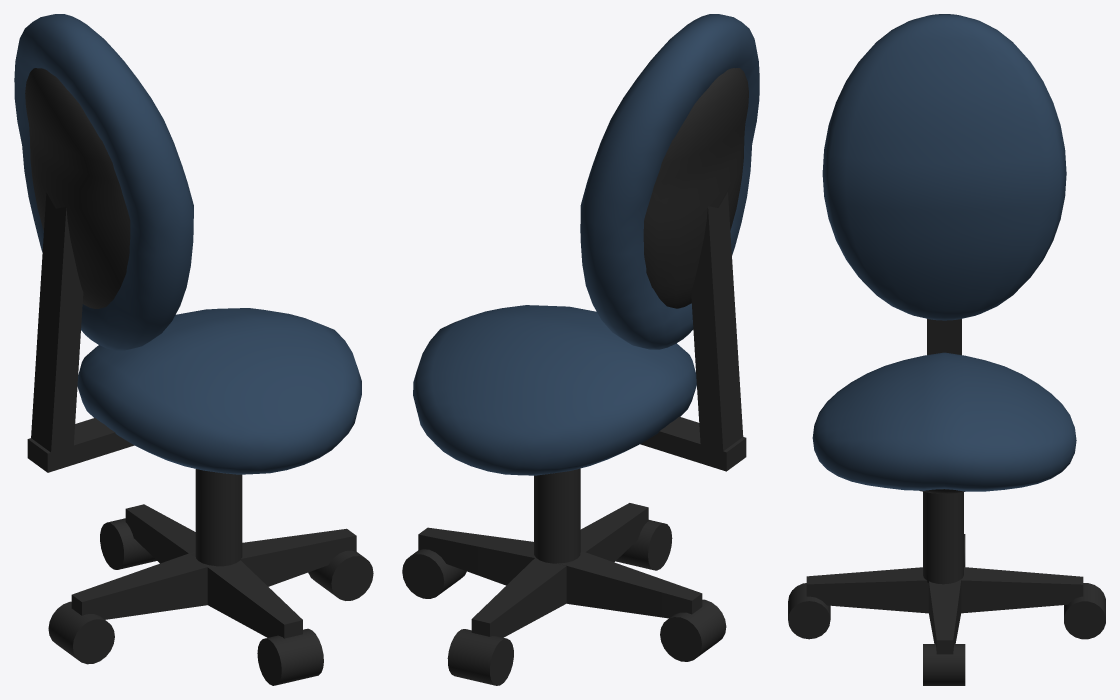
File: rollychair.fbx
The picture shows the model from 3 angles, left to right: view 1: azimuth 30°, elevation 25°; view 2: azimuth 150°, elevation 25°; view 3: azimuth 270°, elevation 25°; orthographic projection. The views are drawn at different scales.
Parts seen in each view (by area): view 1: pSphere4_ffd1Lattice; view 2: pSphere4_ffd1Lattice; view 3: pSphere4_ffd1Lattice.
Boxes of the visible parts, x1,y1,x2,y2 form: pSphere4_ffd1Lattice: (14,14,373,685); pSphere4_ffd1Lattice: (402,14,759,685); pSphere4_ffd1Lattice: (788,14,1105,685).
Size of the model in its own units: 2.67 by 5 by 2.61.
